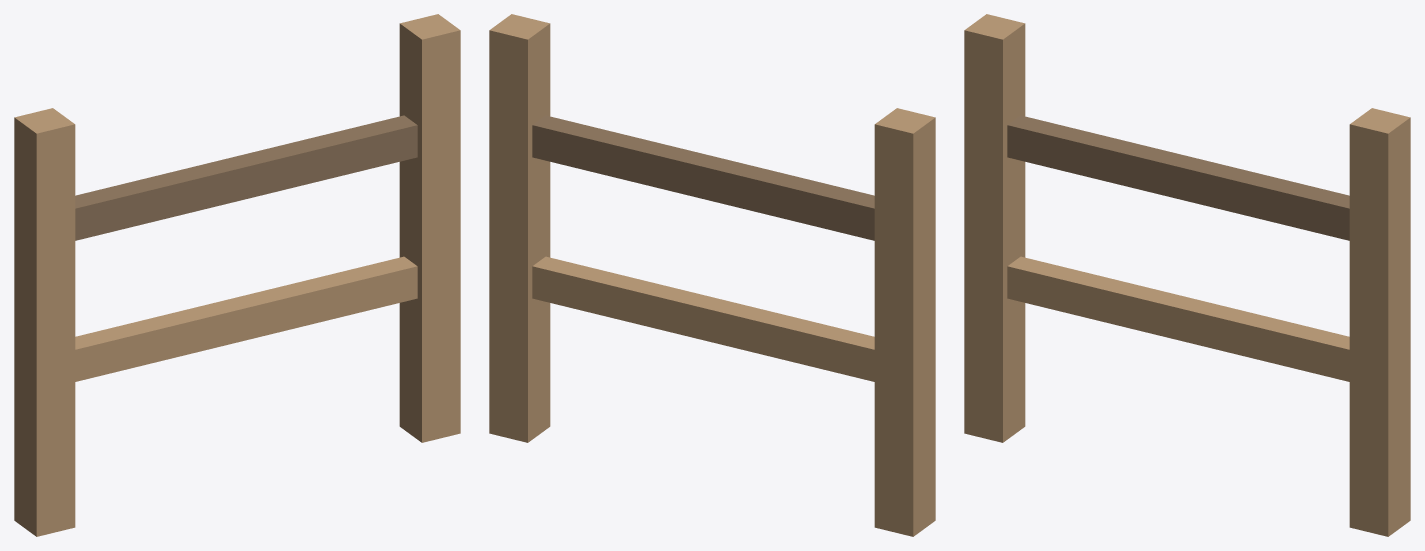
File: Prop_Live_AMF_Fence_V16.glb
The picture shows the model from 3 angles, left to right: view 1: azimuth 30°, elevation 25°; view 2: azimuth 150°, elevation 25°; view 3: azimuth 330°, elevation 25°; orthographic projection.
Visible parts, largest first — view 1: Prop_Live_AMF_Fence_V16; view 2: Prop_Live_AMF_Fence_V16; view 3: Prop_Live_AMF_Fence_V16.
Boxes of the visible parts, box(x1,y1,x2,y2) form: Prop_Live_AMF_Fence_V16: box(14, 14, 460, 536); Prop_Live_AMF_Fence_V16: box(489, 14, 935, 536); Prop_Live_AMF_Fence_V16: box(964, 14, 1410, 536).
Size of the model in its own units: 1.1 by 1 by 0.1.
